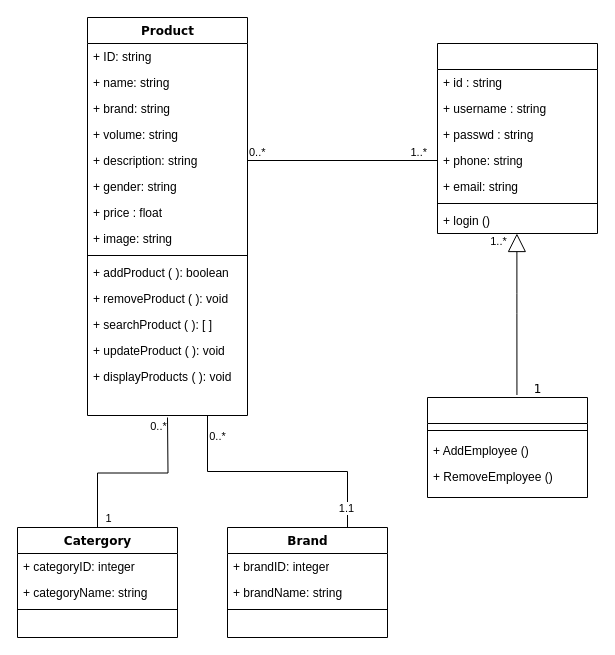
This 615x655 diagram has some shape labels left out. Each missing label, with the box of its shape:
Admin: (426, 396, 588, 498)
Employee: (436, 42, 598, 234)
